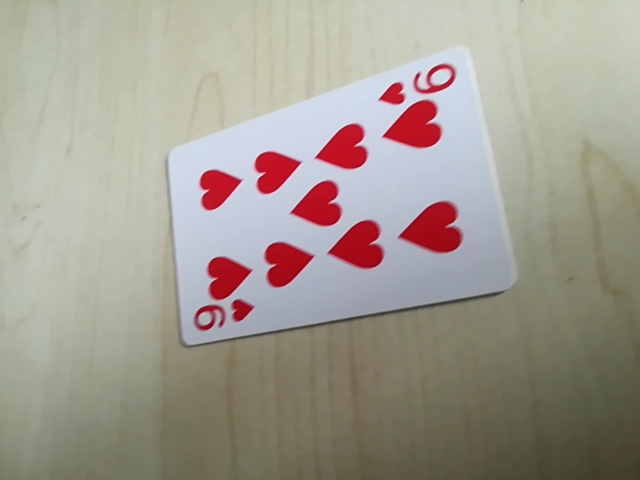hx 9: (376, 57, 461, 105), (191, 298, 257, 340)
